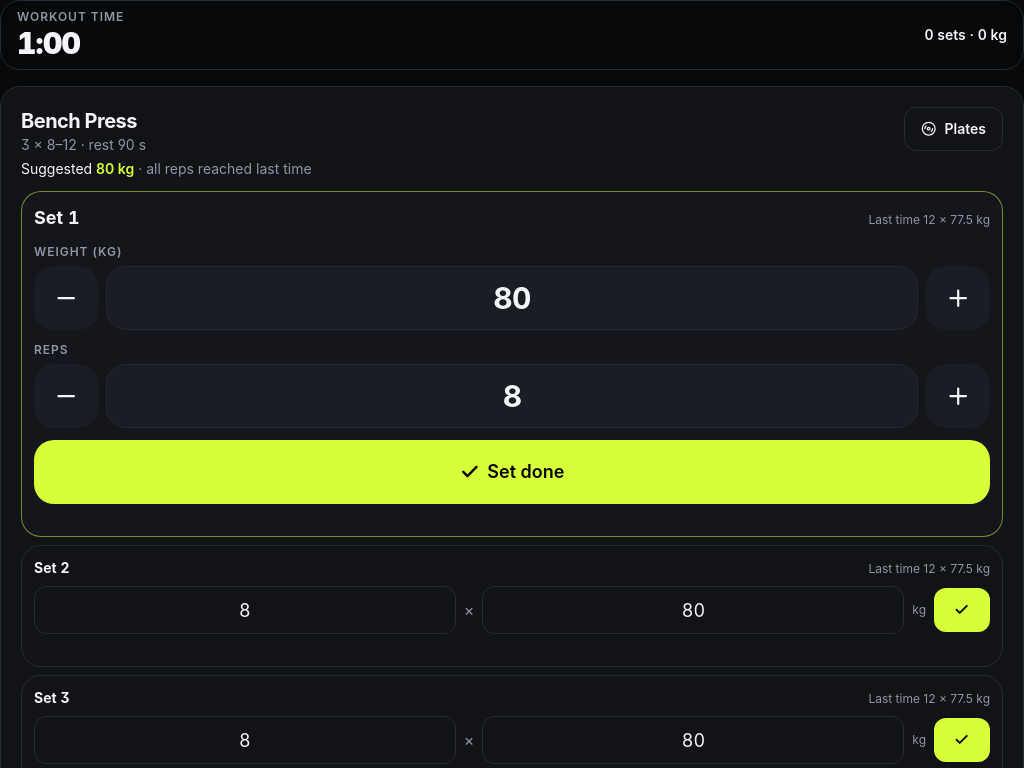
Test: plate sheet › is a bottom sheet on a phone with the API's plates and a Done button
The image size is (1024, 768).
Click the button "Plates" at (954, 129), box top-left (904, 107), bottom-right (1003, 151)
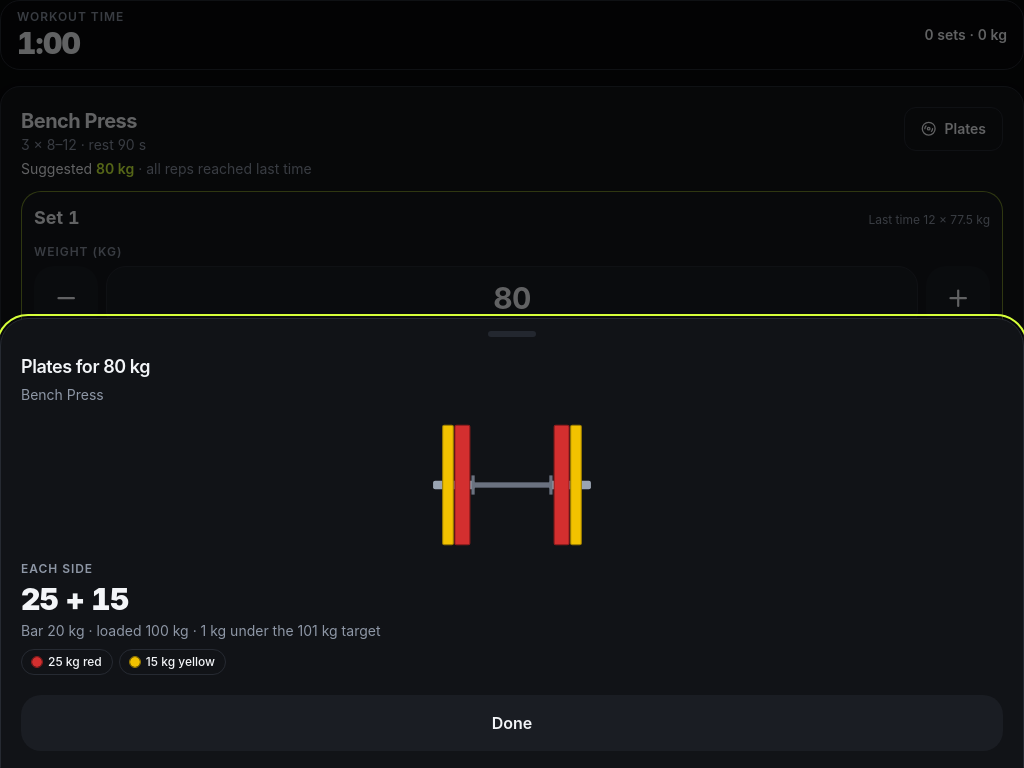
expect the dialog "Plates for 80 kg" shows "Bench Press": met, box top-left (21, 386), bottom-right (104, 403)
expect the text with test id "plates-per-side" reads "25 + 15": met, box top-left (21, 581), bottom-right (128, 617)
Click the button "Done" at (512, 723), box top-left (21, 695), bottom-right (1003, 751)
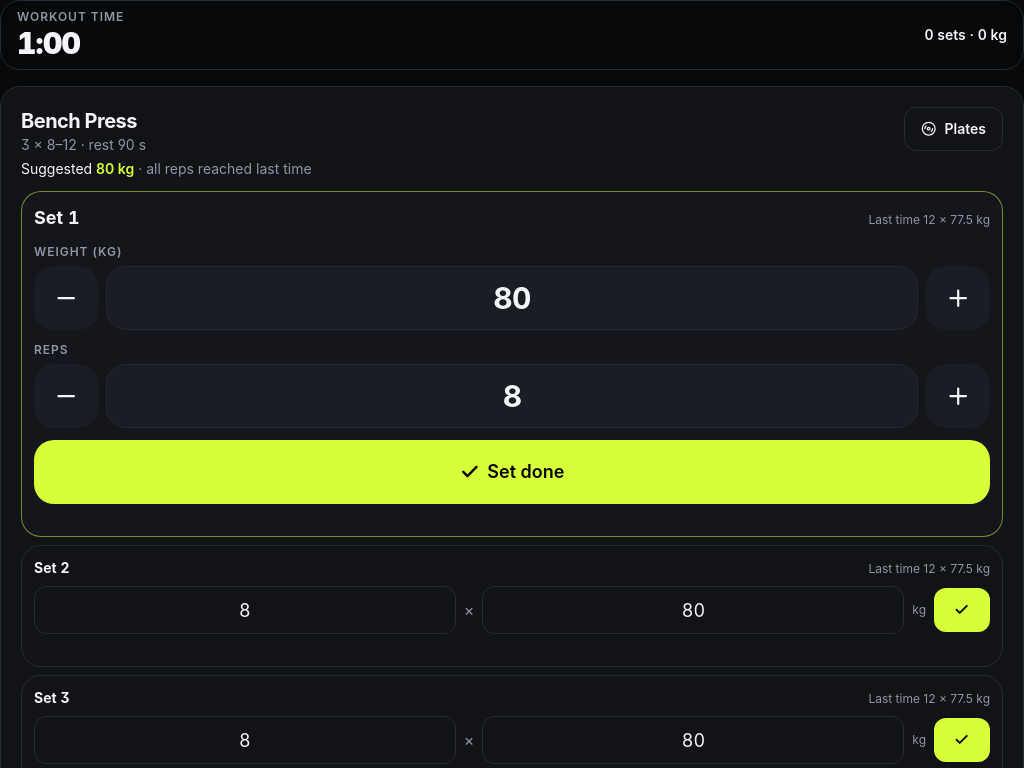
expect the heading "Plates for 80 kg" is gone: met
